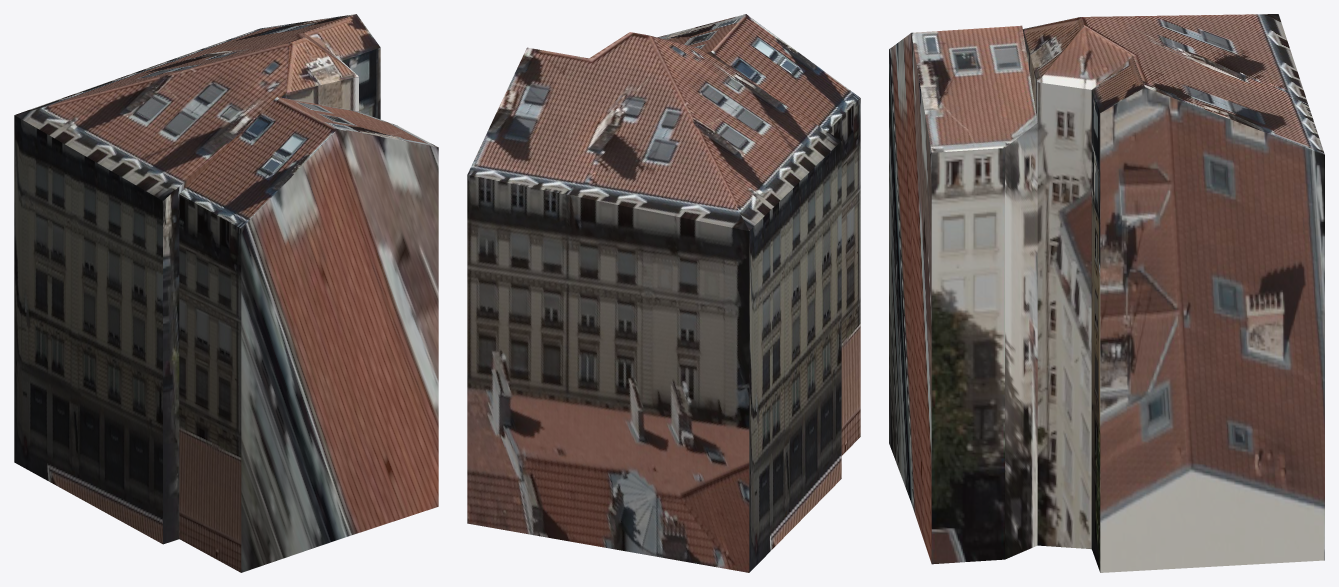
3 views of the same model, side by side, from view 1: azimuth 30°, elevation 25°; view 2: azimuth 150°, elevation 25°; view 3: azimuth 270°, elevation 25° (orthographic). The views are drawn at different scales.
Parts seen in each view (by area): view 1: Z_UP; view 2: Z_UP; view 3: Z_UP.
Part boxes in pixels (x1=…): Z_UP: x1=14, y1=14, x2=438, y2=572; Z_UP: x1=467, y1=14, x2=860, y2=572; Z_UP: x1=889, y1=14, x2=1324, y2=572.
Bounding box in the file's own units: 20.16 × 29.18 × 23.02.
2 materials, 1 textured.
